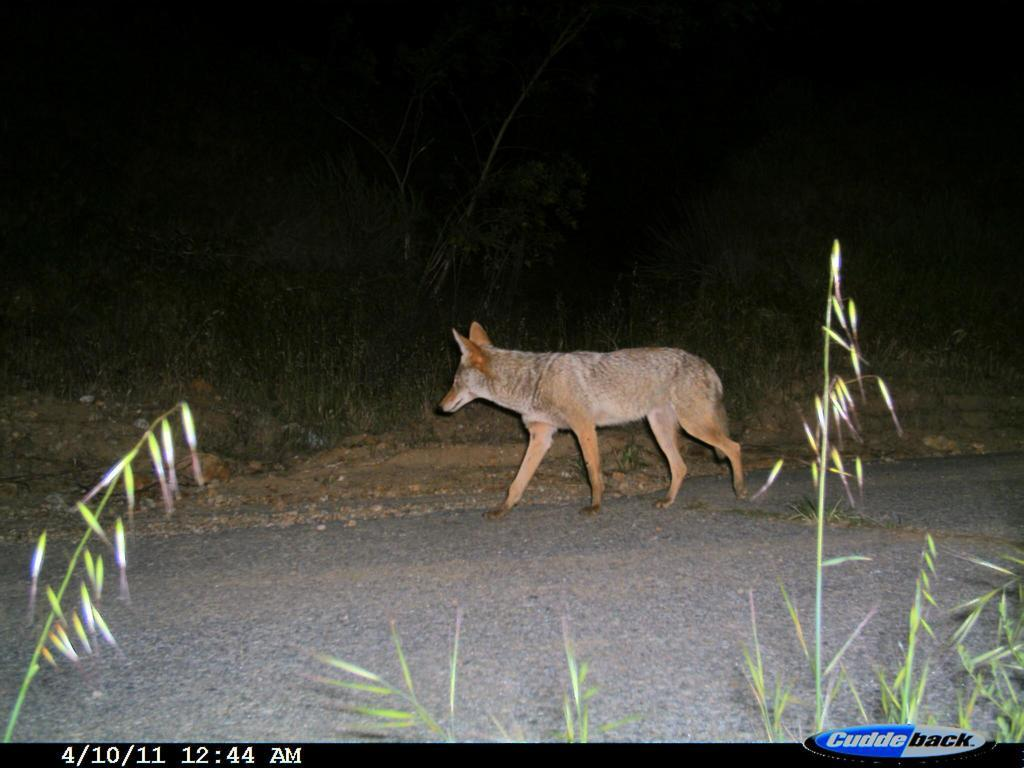coyote: (424, 314, 760, 516)
